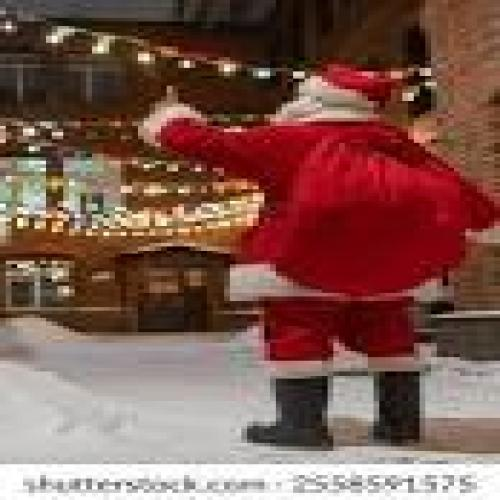Santa: (118, 58, 500, 454)
